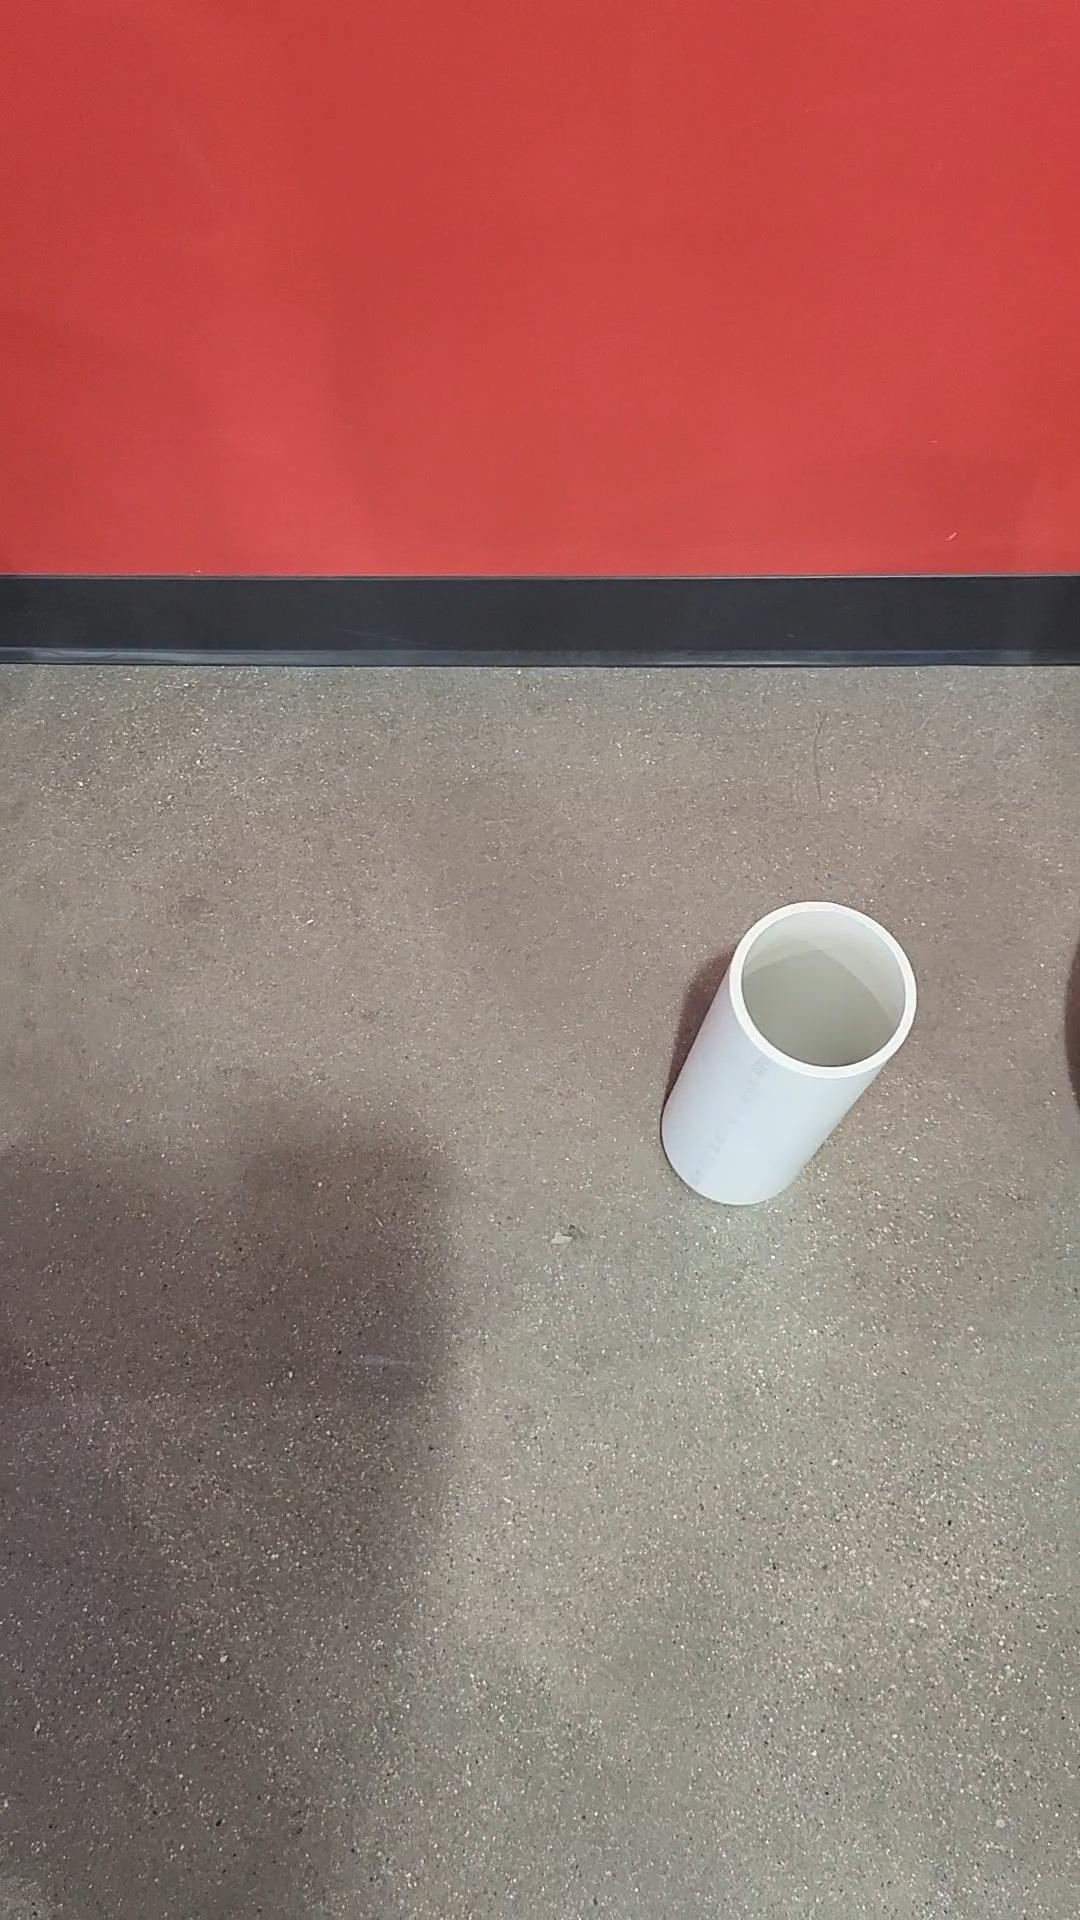coral: (663, 898, 916, 1209)
